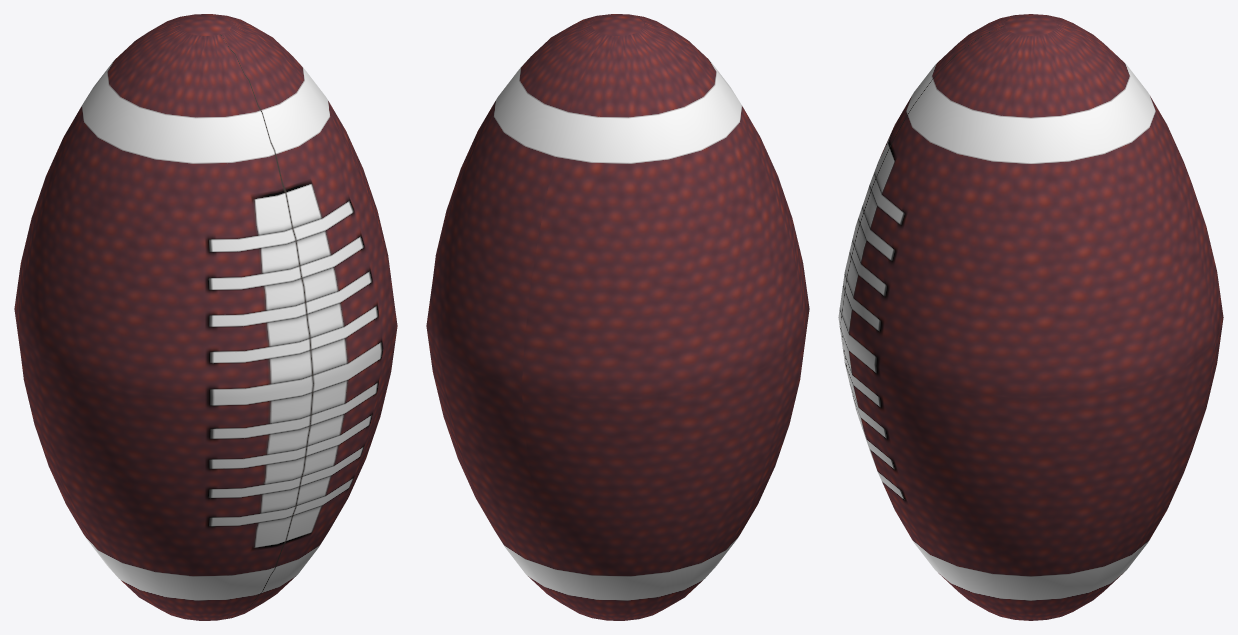
File: rugbyball.fbx
3 renders of one model, left to right at view 1: azimuth 30°, elevation 25°; view 2: azimuth 150°, elevation 25°; view 3: azimuth 270°, elevation 25°, orthographic.
Parts seen in each view (by area): view 1: ball_size:pSphere1; view 2: ball_size:pSphere1; view 3: ball_size:pSphere1.
Part boxes in pixels (x1,y1,x2,y2): ball_size:pSphere1: (14, 14, 397, 620); ball_size:pSphere1: (426, 14, 809, 620); ball_size:pSphere1: (838, 14, 1223, 620).
Bounding box in the file's own units: 1073 × 1840 × 1085.
